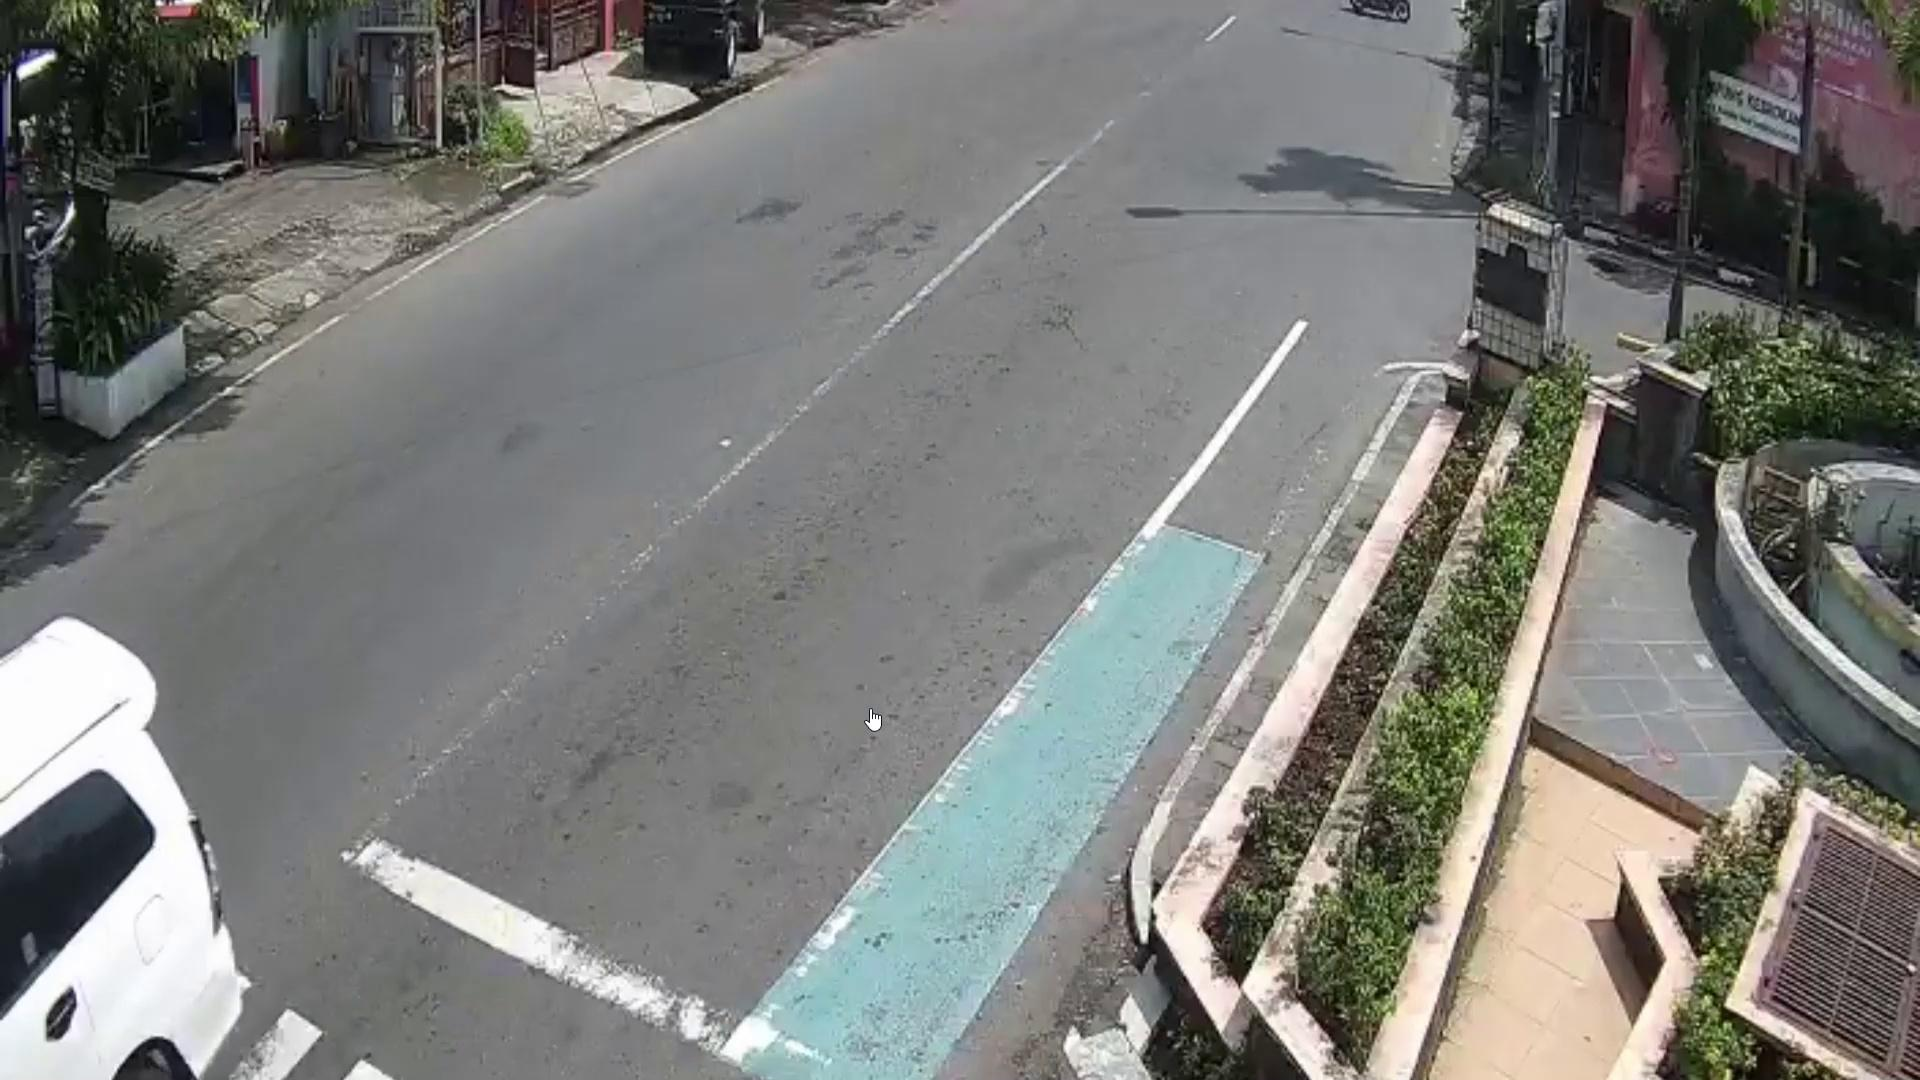car: (0, 608, 251, 1080)
